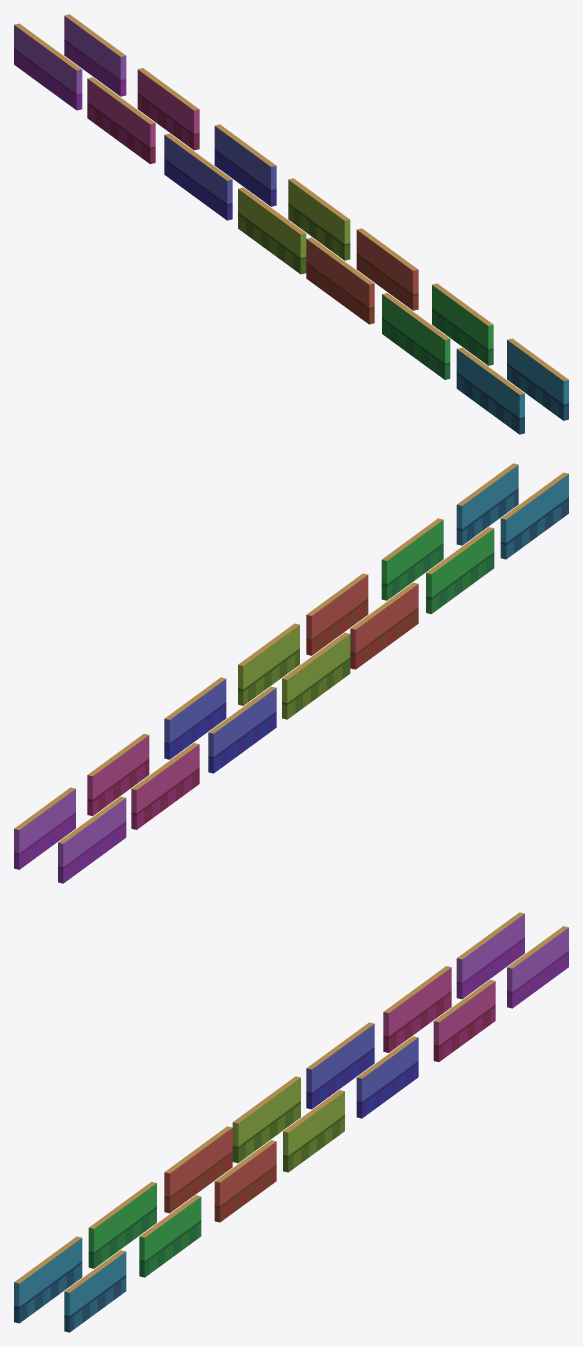
Rendered from WallsHotel1.fbx.
3 renders of one model, top to bottom at view 1: azimuth 30°, elevation 25°; view 2: azimuth 150°, elevation 25°; view 3: azimuth 330°, elevation 25°, orthographic.
Parts seen in each view (by area): view 1: WallHotel1Lvl1, WallHotel1Lvl3, WallHotel1Lvl5, WallHotel1Lvl7, WallHotel1Lvl6, WallHotel1Lvl2, WallHotel1Lvl4, WallHotel1ShortLvl3, WallHotel1ShortLvl5, WallHotel1ShortLvl6, WallHotel1ShortLvl7, WallHotel1ShortLvl4 (+2 smaller); view 2: WallHotel1Lvl7, WallHotel1Lvl1, WallHotel1Lvl3, WallHotel1Lvl4, WallHotel1Lvl5, WallHotel1Lvl2, WallHotel1Lvl6, WallHotel1ShortLvl3, WallHotel1ShortLvl5, WallHotel1ShortLvl1, WallHotel1ShortLvl2, WallHotel1ShortLvl6 (+2 smaller); view 3: WallHotel1Lvl7, WallHotel1Lvl1, WallHotel1Lvl3, WallHotel1Lvl4, WallHotel1Lvl5, WallHotel1Lvl2, WallHotel1Lvl6, WallHotel1ShortLvl3, WallHotel1ShortLvl5, WallHotel1ShortLvl1, WallHotel1ShortLvl2, WallHotel1ShortLvl6 (+2 smaller).
Boxes of the visible parts, bbox=[...] form: WallHotel1Lvl1: bbox=[456, 347, 524, 434]; WallHotel1Lvl3: bbox=[306, 237, 374, 324]; WallHotel1Lvl5: bbox=[164, 133, 232, 220]; WallHotel1Lvl7: bbox=[14, 23, 82, 110]; WallHotel1Lvl6: bbox=[87, 77, 155, 164]; WallHotel1Lvl2: bbox=[382, 293, 450, 379]; WallHotel1Lvl4: bbox=[238, 187, 306, 274]; WallHotel1ShortLvl3: bbox=[356, 228, 418, 310]; WallHotel1ShortLvl5: bbox=[214, 124, 276, 206]; WallHotel1ShortLvl6: bbox=[137, 68, 199, 150]; WallHotel1ShortLvl7: bbox=[64, 14, 126, 96]; WallHotel1ShortLvl4: bbox=[288, 178, 350, 260]; WallHotel1Lvl7: bbox=[58, 796, 126, 883]; WallHotel1Lvl1: bbox=[500, 472, 568, 559]; WallHotel1Lvl3: bbox=[350, 582, 418, 669]; WallHotel1Lvl4: bbox=[282, 632, 350, 719]; WallHotel1Lvl5: bbox=[208, 686, 276, 773]; WallHotel1Lvl2: bbox=[426, 527, 494, 614]; WallHotel1Lvl6: bbox=[131, 743, 199, 829]; WallHotel1ShortLvl3: bbox=[306, 573, 368, 655]; WallHotel1ShortLvl5: bbox=[164, 677, 226, 759]; WallHotel1ShortLvl1: bbox=[456, 463, 518, 545]; WallHotel1ShortLvl2: bbox=[381, 518, 443, 600]; WallHotel1ShortLvl6: bbox=[87, 734, 149, 816]; WallHotel1Lvl7: bbox=[456, 912, 524, 999]; WallHotel1Lvl1: bbox=[14, 1236, 82, 1323]; WallHotel1Lvl3: bbox=[164, 1126, 232, 1213]; WallHotel1Lvl4: bbox=[232, 1076, 300, 1163]; WallHotel1Lvl5: bbox=[306, 1022, 374, 1109]; WallHotel1Lvl2: bbox=[88, 1181, 156, 1268]; WallHotel1Lvl6: bbox=[383, 966, 451, 1052]; WallHotel1ShortLvl3: bbox=[214, 1140, 276, 1222]; WallHotel1ShortLvl5: bbox=[356, 1036, 418, 1118]; WallHotel1ShortLvl1: bbox=[64, 1250, 126, 1332]; WallHotel1ShortLvl2: bbox=[139, 1195, 201, 1277]; WallHotel1ShortLvl6: bbox=[433, 979, 495, 1061].
Size of the model in its own units: 290 by 210 by 4829.
